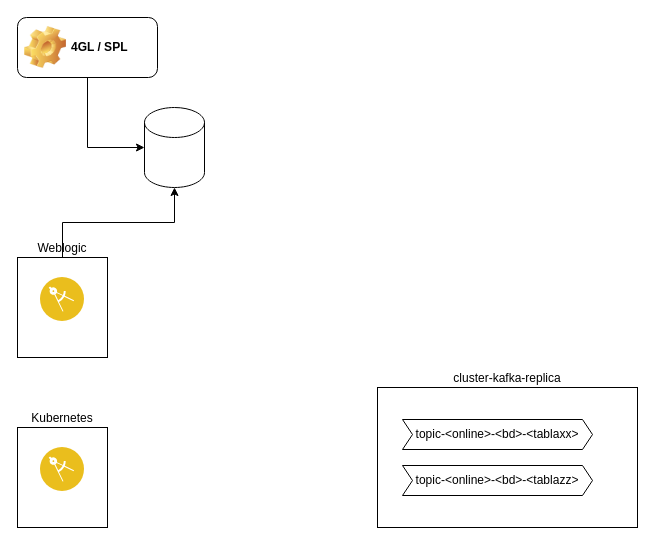
Image size: 655x545. Some labels were removed from this diagram. Each missing label, with the centre of its shape:
"EAR" belongs at (x=62, y=299).
"informix Oracle" belongs at (x=174, y=147).
"microservicio" belongs at (x=62, y=469).
